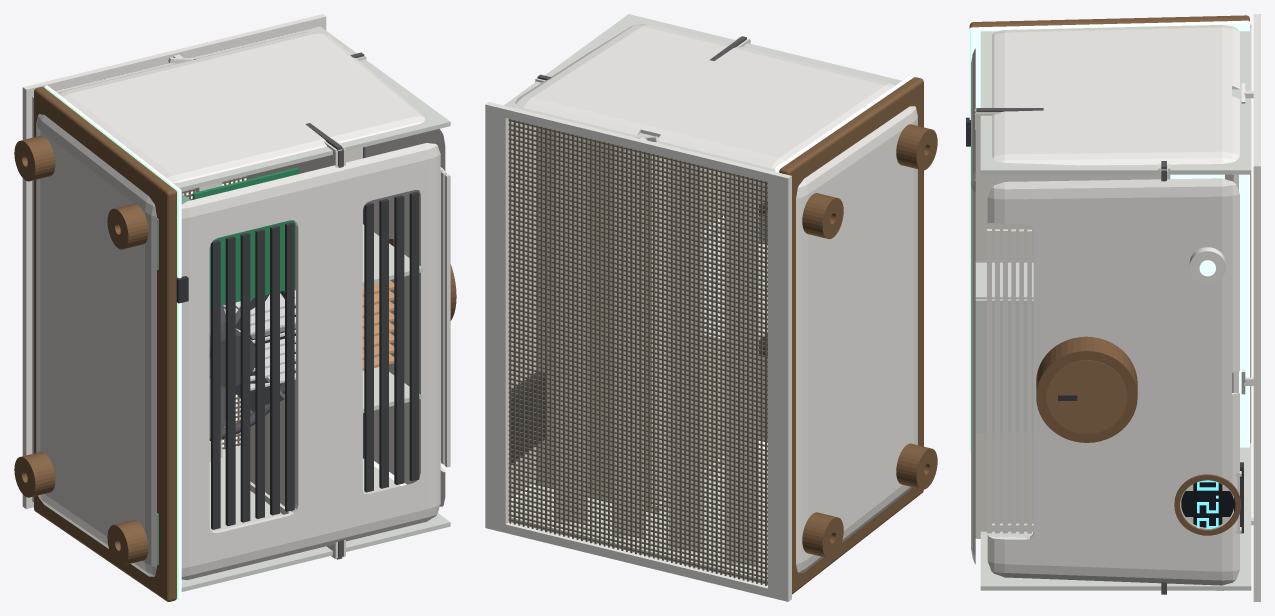
Rendered from assembly_b.glb.
The picture shows the model from 3 angles, left to right: view 1: azimuth 30°, elevation 25°; view 2: azimuth 150°, elevation 25°; view 3: azimuth 270°, elevation 25°; orthographic projection. The views are drawn at different scales.
Visible parts, largest first — view 1: Body, IntakeGrille, Band, HotIntakeGrille, M5_ColdDuct, FrontMesh, Feet, HotVent, M3_PCB, M5_Separator, M5_HotDuct, MintLine (+5 smaller); view 2: FrontMesh, Body, M6_GuideVanes, M5_Separator, Band, M5_ColdDuct, Feet, M5_ColdFins, M7_Module, MintLine; view 3: Body, M5_ColdDuct, HotVent, Knob, M5_Separator, MintLine, M5_HotDuct, FrontMesh, Band, DisplayGlass, DisplayBezel, CoolKey (+3 smaller).
Part boxes in pixels (x1,y1,x2,y2): Body: (36, 31, 445, 579); IntakeGrille: (211, 222, 294, 529); Band: (34, 87, 176, 601); HotIntakeGrille: (364, 191, 419, 492); M5_ColdDuct: (32, 26, 450, 591); FrontMesh: (22, 14, 326, 509); Feet: (14, 135, 148, 565); HotVent: (440, 168, 450, 467); M3_PCB: (192, 167, 298, 308); M5_Separator: (247, 56, 366, 558); M5_HotDuct: (362, 224, 422, 412); MintLine: (44, 85, 181, 599); FrontMesh: (485, 102, 791, 601); Body: (511, 24, 917, 573); M6_GuideVanes: (556, 132, 758, 564); M5_Separator: (535, 37, 750, 512); Band: (779, 77, 923, 594); M5_ColdDuct: (504, 14, 902, 584); Feet: (802, 124, 937, 558); M5_ColdFins: (702, 217, 767, 340); M7_Module: (511, 372, 544, 462); MintLine: (774, 75, 912, 172); Body: (971, 25, 1239, 590); M5_ColdDuct: (980, 24, 1251, 590); HotVent: (987, 229, 1031, 533); Knob: (1036, 336, 1137, 442); M5_Separator: (974, 108, 1170, 538); MintLine: (969, 20, 1249, 453); M5_HotDuct: (975, 262, 1033, 432); FrontMesh: (1253, 14, 1260, 601); Band: (969, 15, 1249, 28); DisplayGlass: (1181, 482, 1235, 527); DisplayBezel: (1174, 474, 1240, 535); CoolKey: (1189, 247, 1225, 283).
Bounding box in the file's own units: 0.1736 × 0.201 × 0.122.
